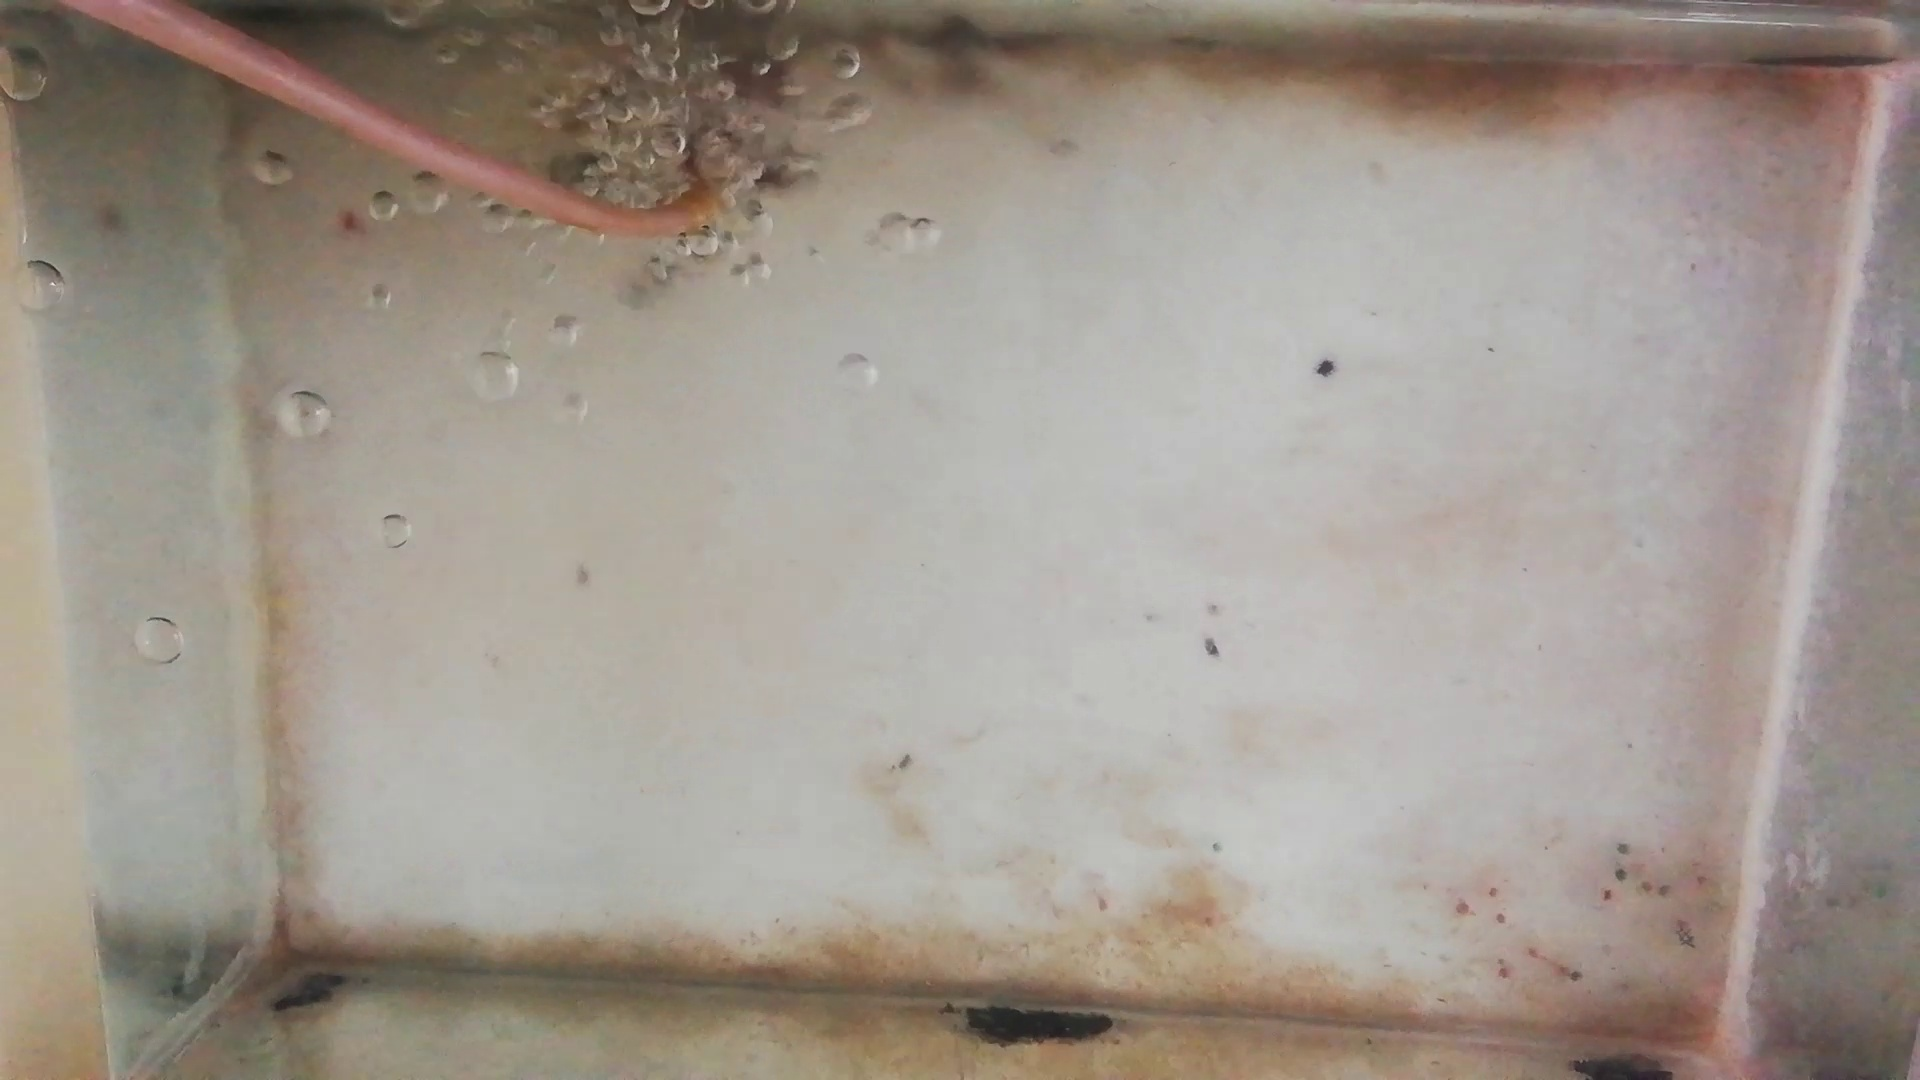fish: (531, 141, 814, 194), (541, 59, 799, 113)
